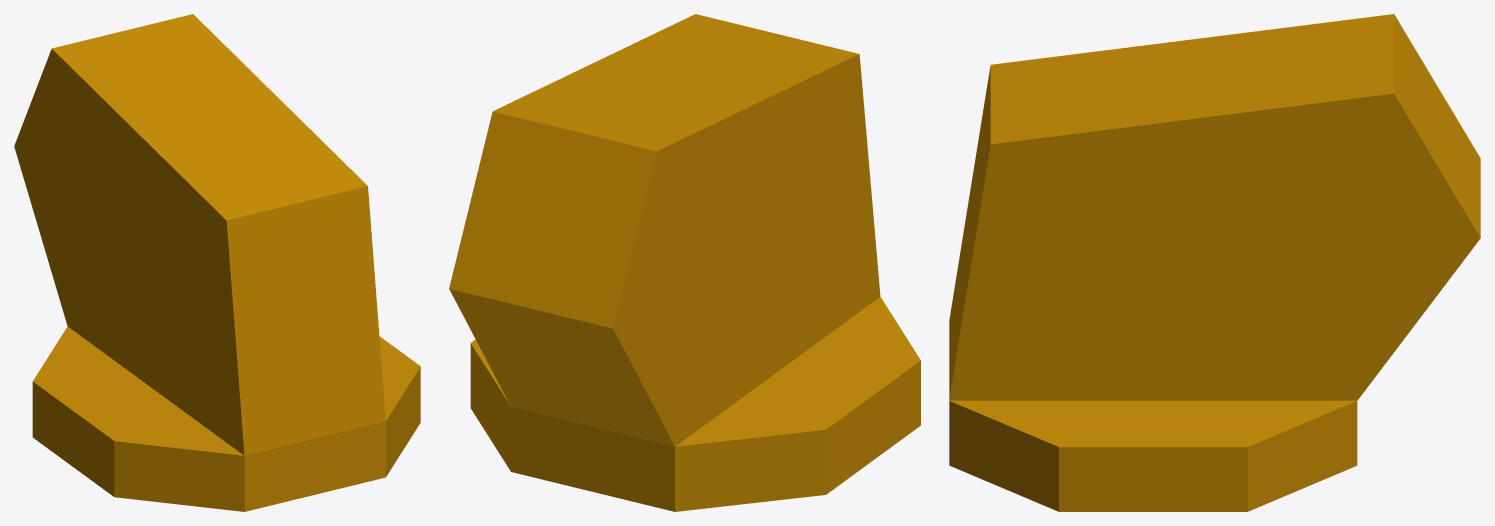
The model's file is Pivot.obj.
3 renders of one model, left to right at view 1: azimuth 30°, elevation 25°; view 2: azimuth 150°, elevation 25°; view 3: azimuth 270°, elevation 25°, orthographic. The views are drawn at different scales.
Visible parts, largest first — view 1: Pivot; view 2: Pivot; view 3: Pivot.
Boxes of the visible parts, bbox=[...] form: Pivot: bbox=[14, 14, 420, 511]; Pivot: bbox=[449, 14, 920, 511]; Pivot: bbox=[949, 14, 1480, 511].
Bounding box in the file's own units: 4.89 × 4.92 × 6.37.
